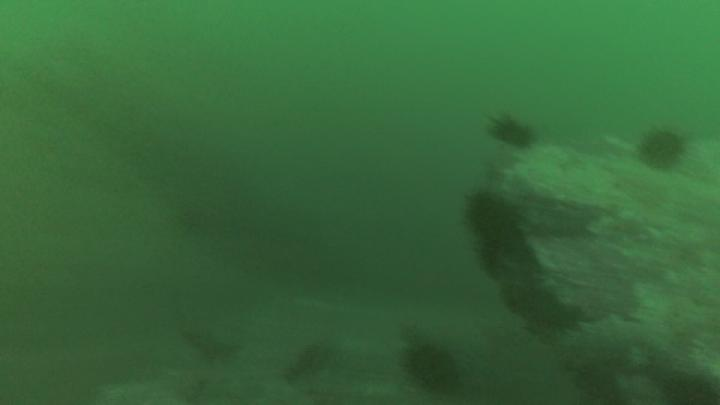echinus: (408, 346, 453, 385), (640, 134, 681, 169), (464, 195, 496, 228), (493, 120, 528, 146)
